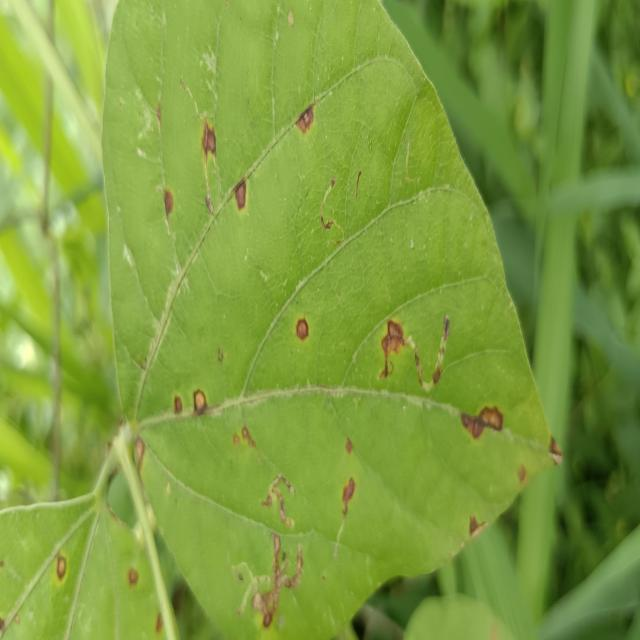Dolicos bean_cercospora leaf spot: (100, 5, 559, 639)
